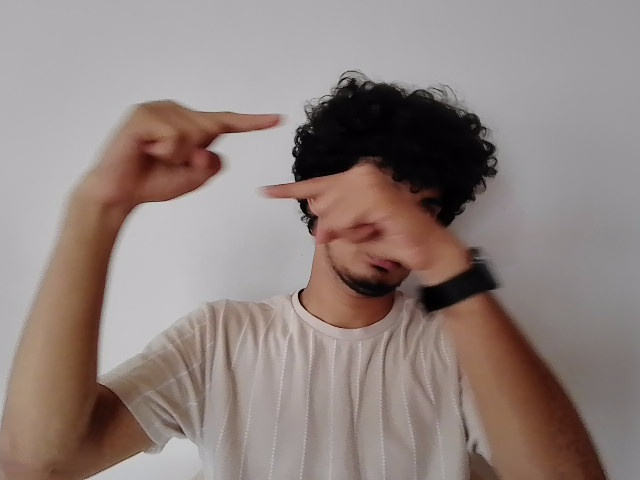about: (77, 99, 492, 261)
